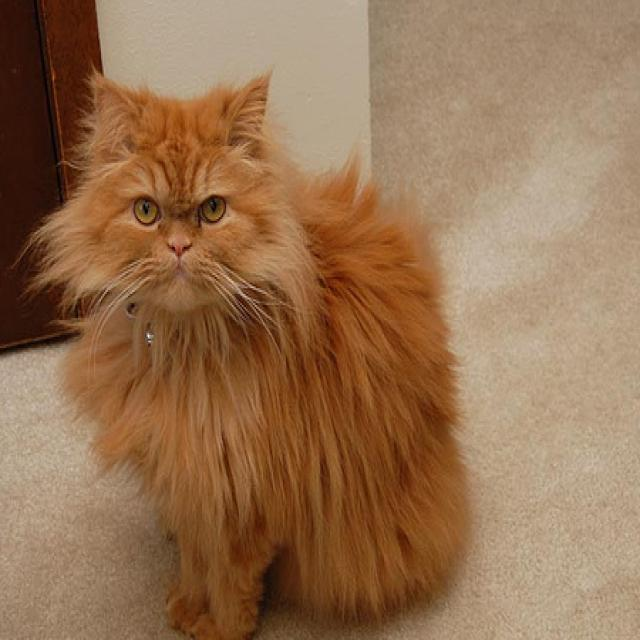Persian: (21, 63, 470, 640)
